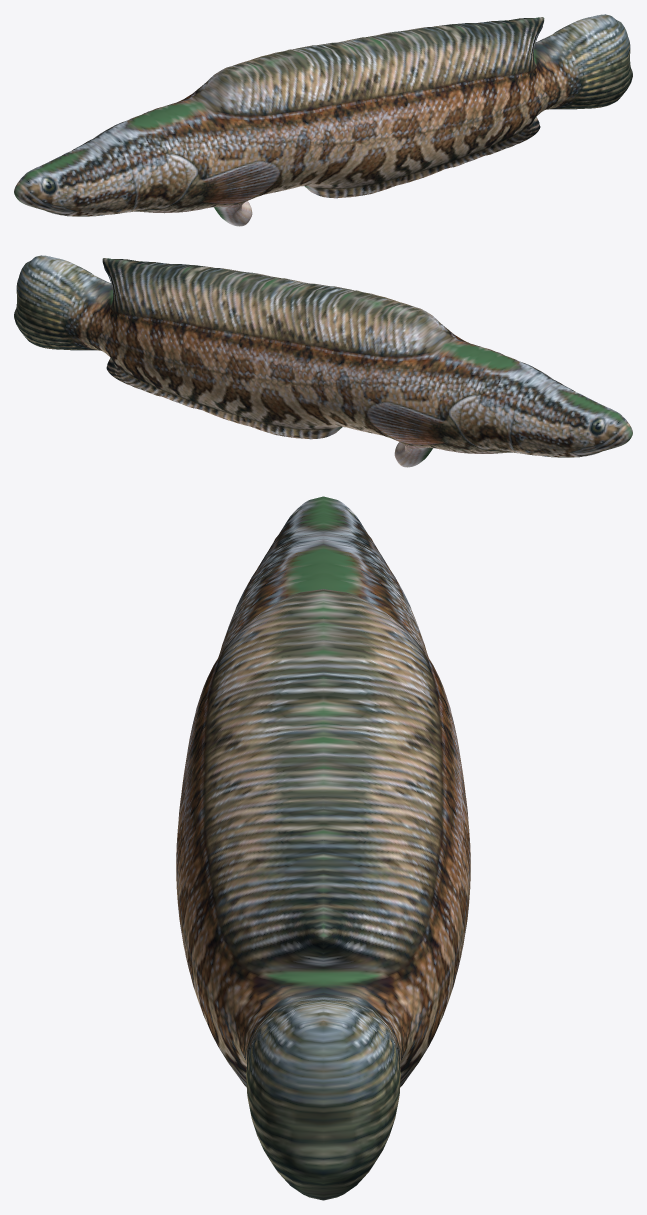
The model's file is Snakehead Fish.glb.
3 renders of one model, top to bottom at view 1: azimuth 30°, elevation 25°; view 2: azimuth 150°, elevation 25°; view 3: azimuth 270°, elevation 25°, orthographic. The views are drawn at different scales.
Parts seen in each view (by area): view 1: mesh_0; view 2: mesh_0; view 3: mesh_0.
Boxes of the visible parts, x1,y1,x2,y2 form: mesh_0: (14, 14, 632, 226); mesh_0: (14, 255, 632, 467); mesh_0: (176, 496, 470, 1200).
Bounding box in the file's own units: 9.87 × 2.41 × 2.04.
Materials: 1 (1 with a texture image).
